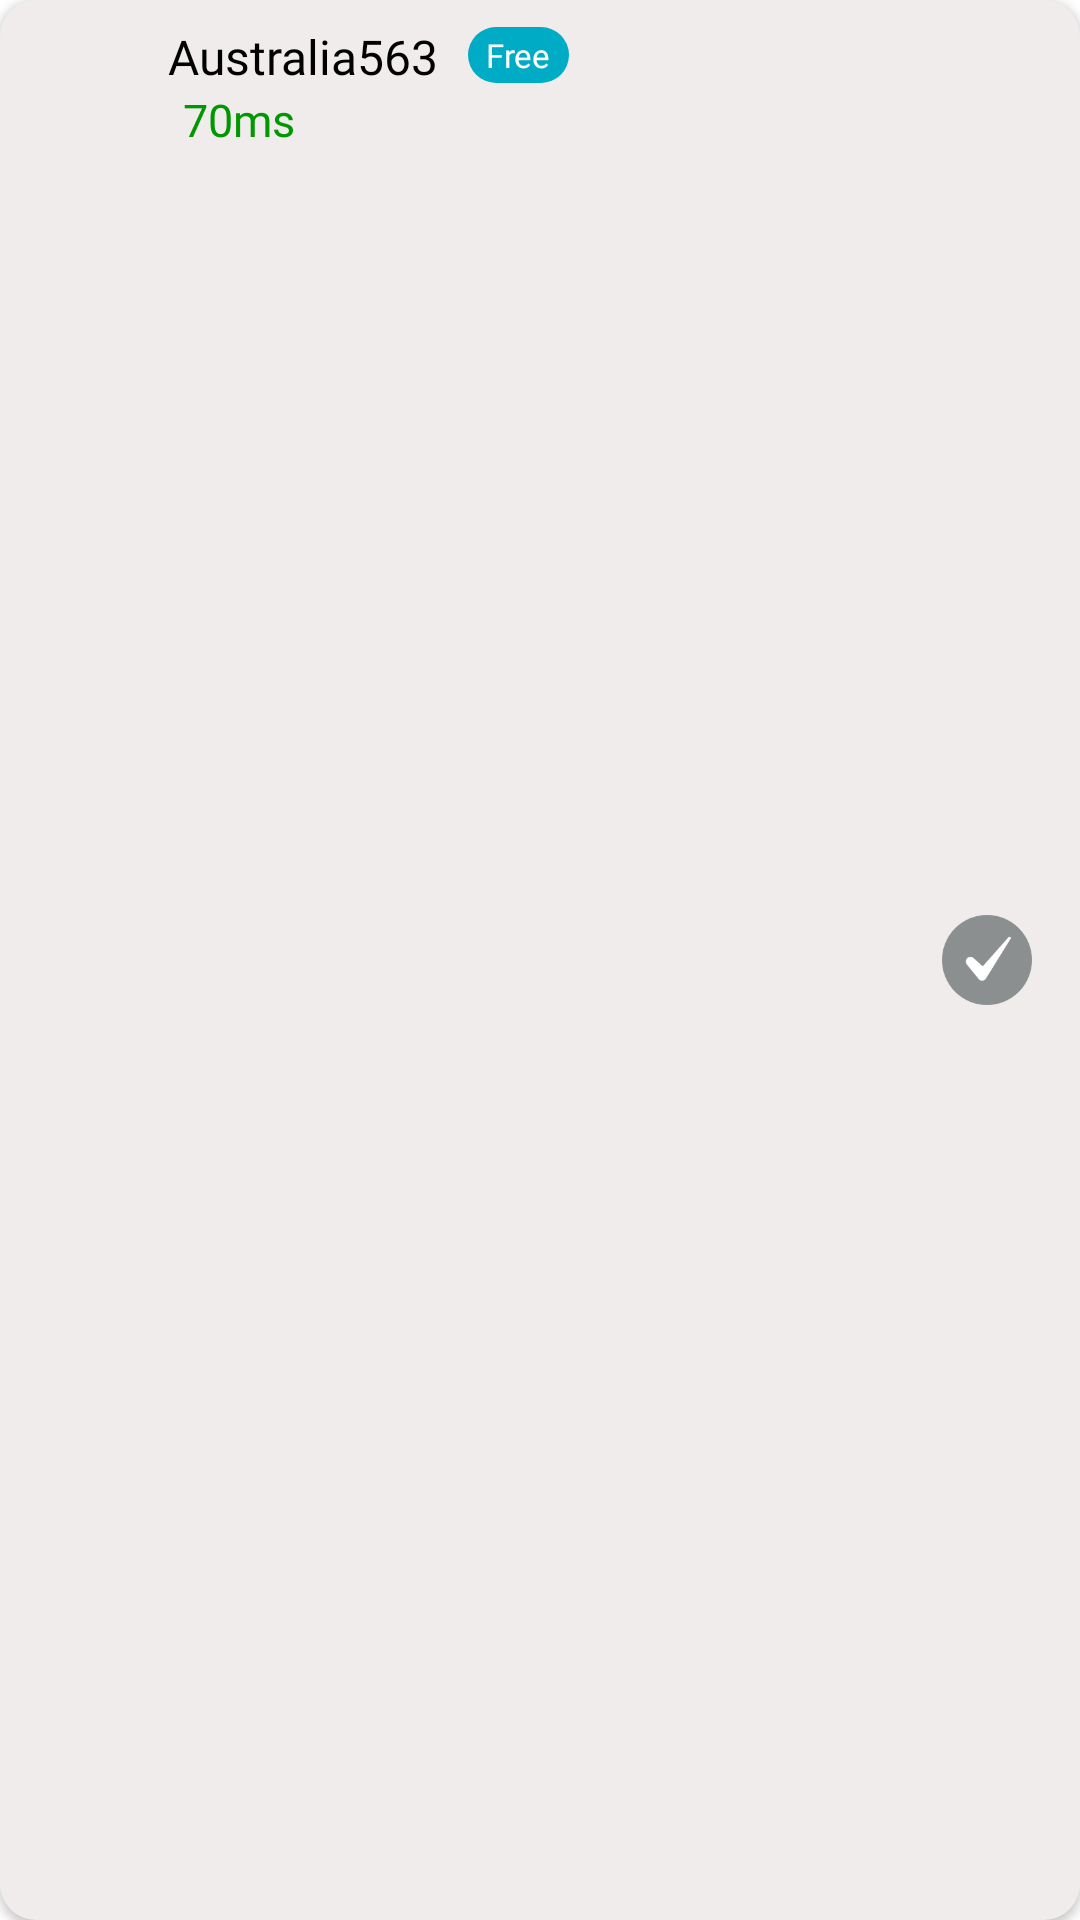

Locate icon controls on the screen. Image size 1080w x 1920h, boxes as (x1, y1, x2, y2).
check mark: (942, 915, 1032, 1005)
